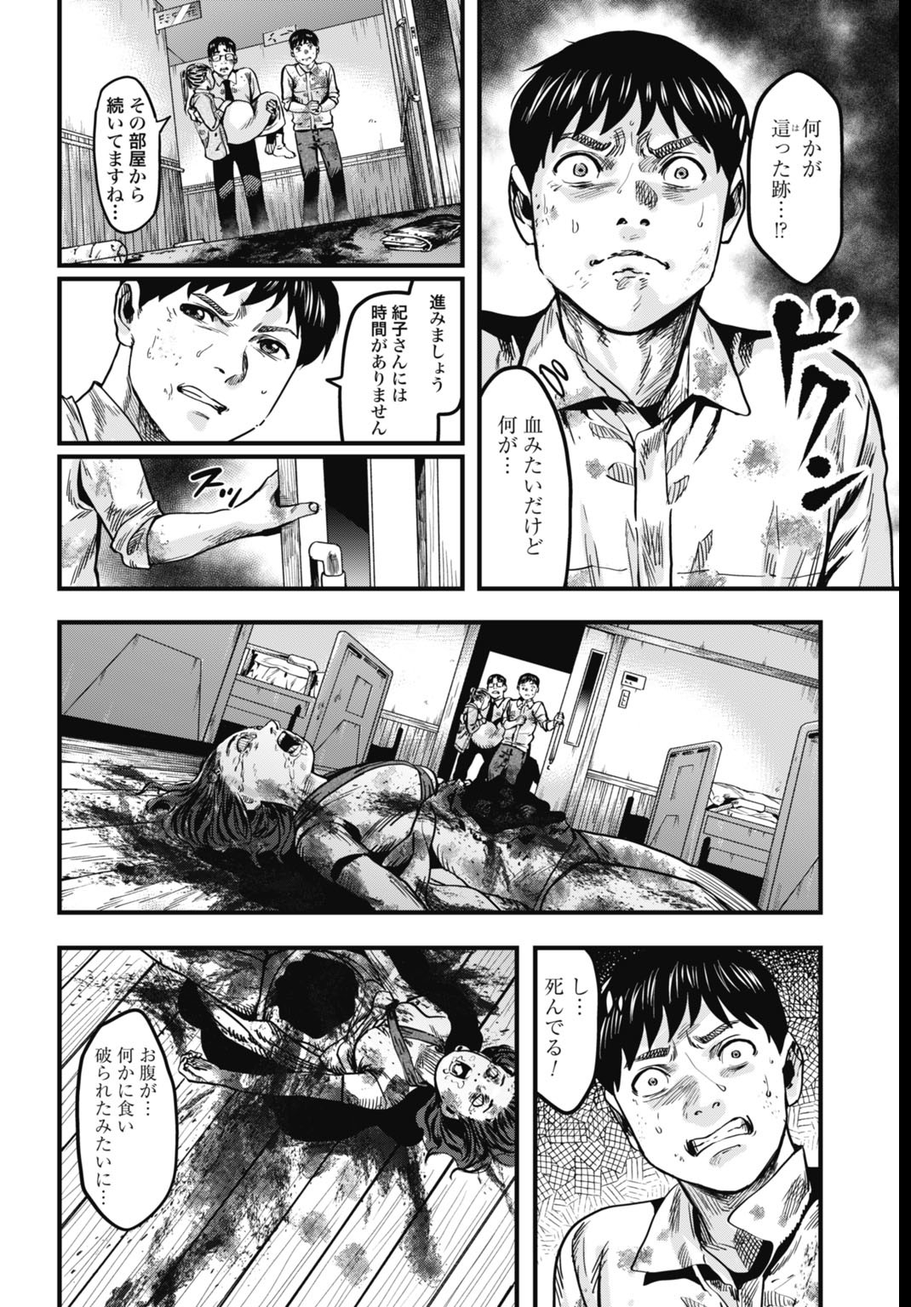bubbles: (72, 1004, 182, 1233), (740, 70, 850, 294), (478, 357, 581, 589), (324, 282, 465, 441), (84, 71, 182, 241), (533, 944, 599, 1121)
